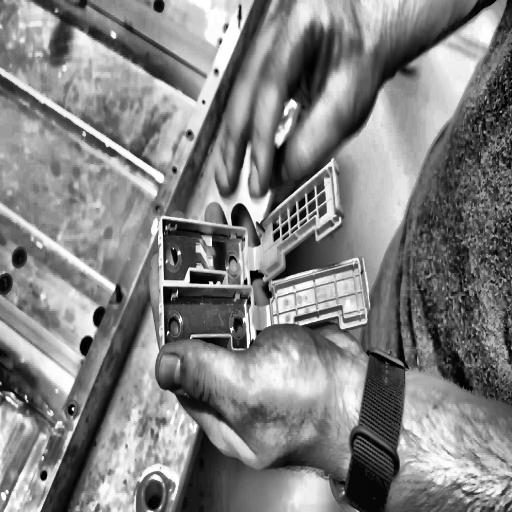connector: (155, 160, 375, 346)
